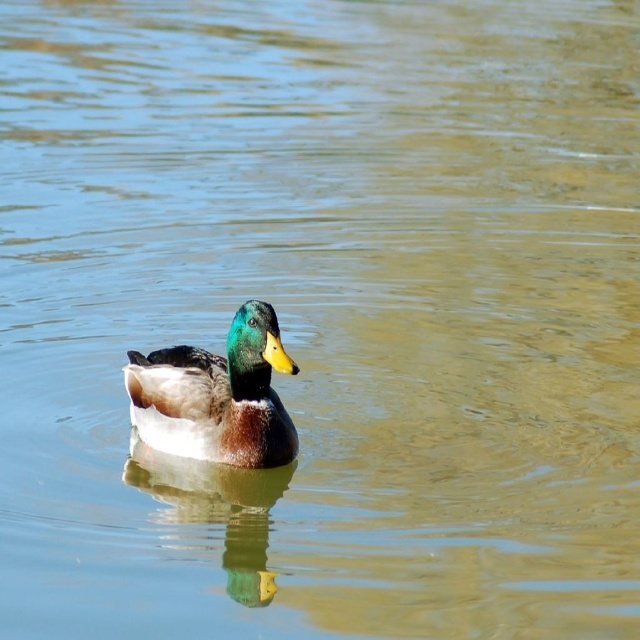Duck: (122, 300, 301, 470)
